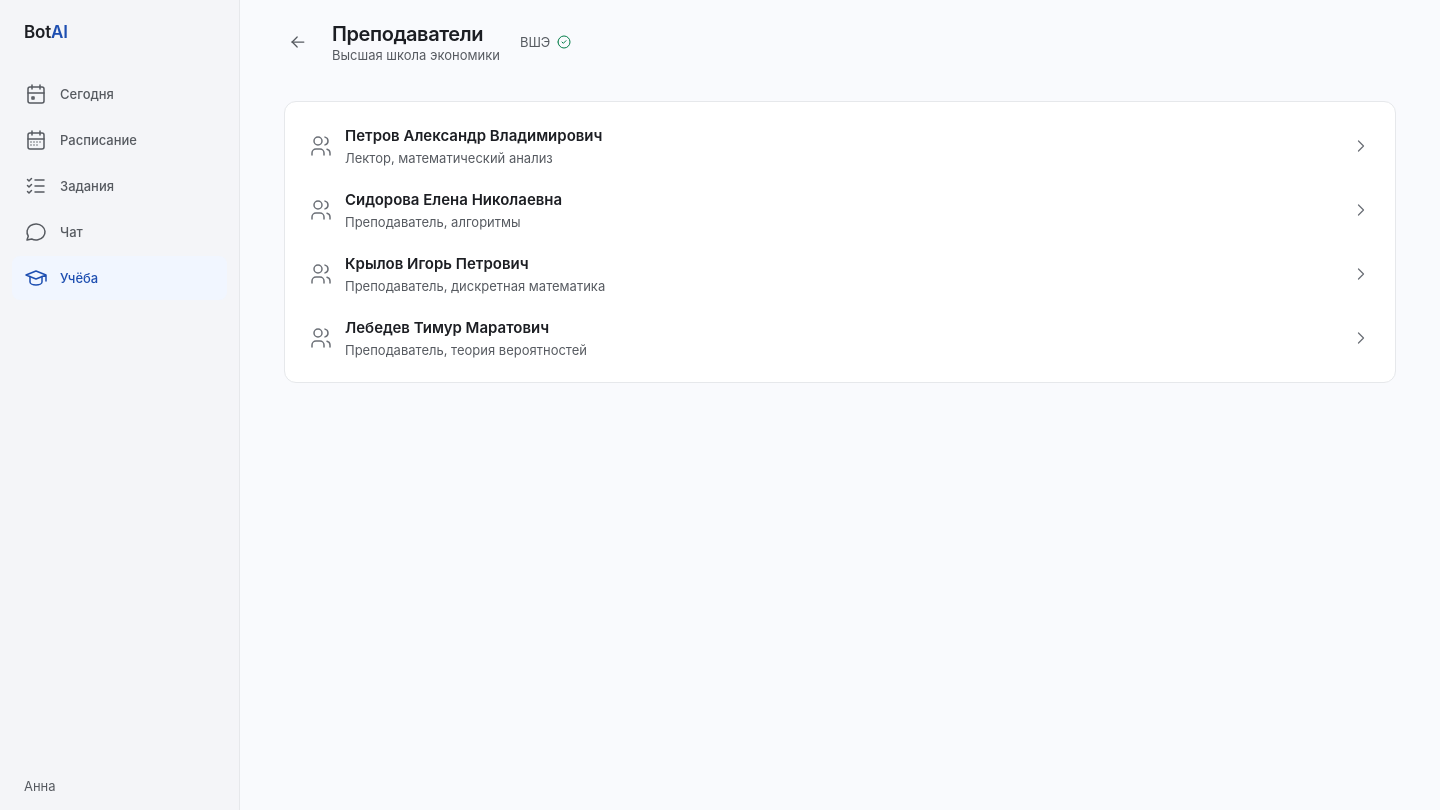
Test: «Учёба»: экраны разделов › «Преподаватели»: роль и почта; «Написать» — только для настоящего адреса
Click the button "Петров Александр Владимирович Лектор, математический анализ": {"x": 474, "y": 136} x1=297 y1=114 x2=1383 y2=178
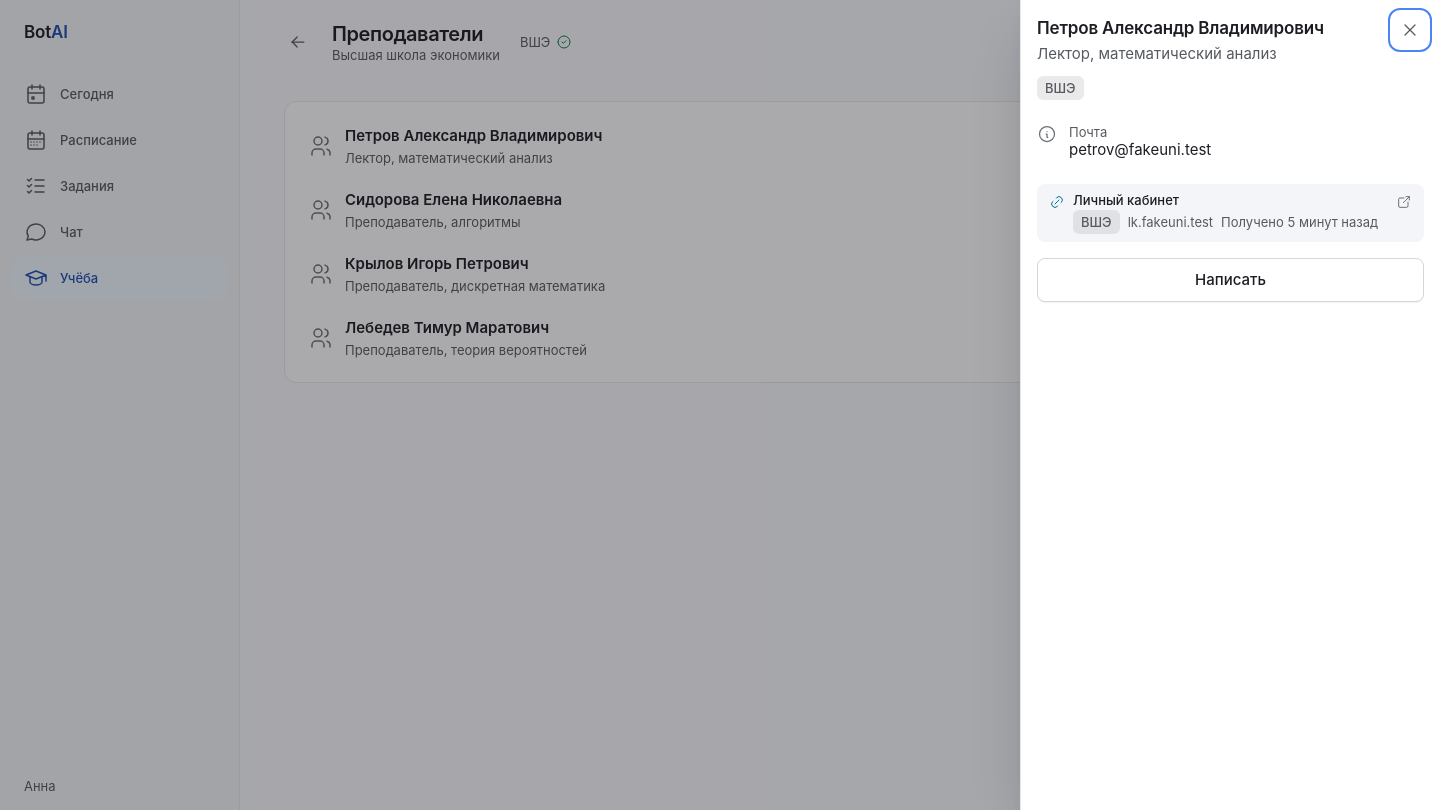
Expected: the text "petrov@fakeuni.test" is shown, x1=1069 y1=140 x2=1211 y2=159
